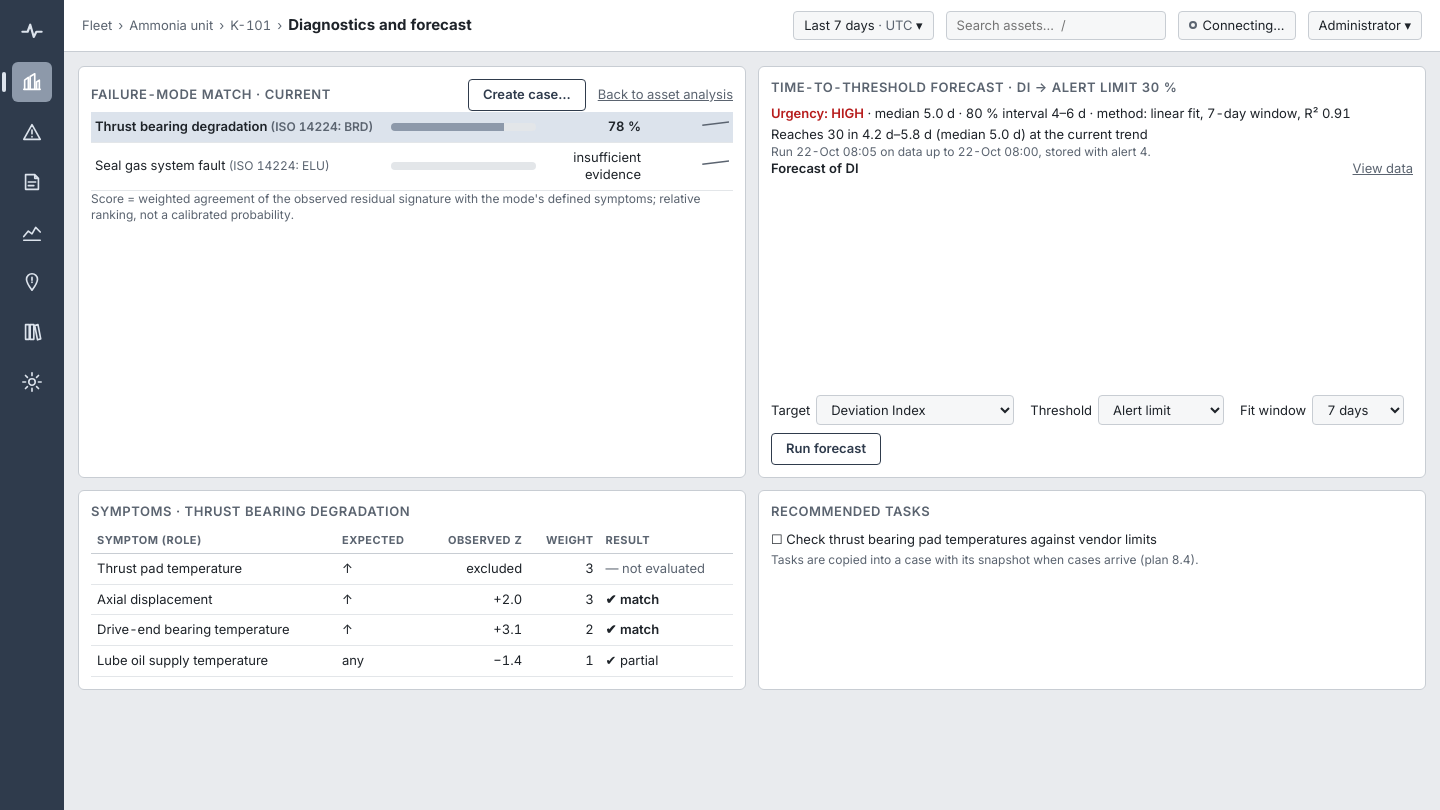
SCR-04 diagnostics › runs a forecast on a sensor with a custom threshold
Select "K101.ZI1015.PV actual" in the dropdown labelled "Target". click: (915, 410)
box: [816,395,1014,425]
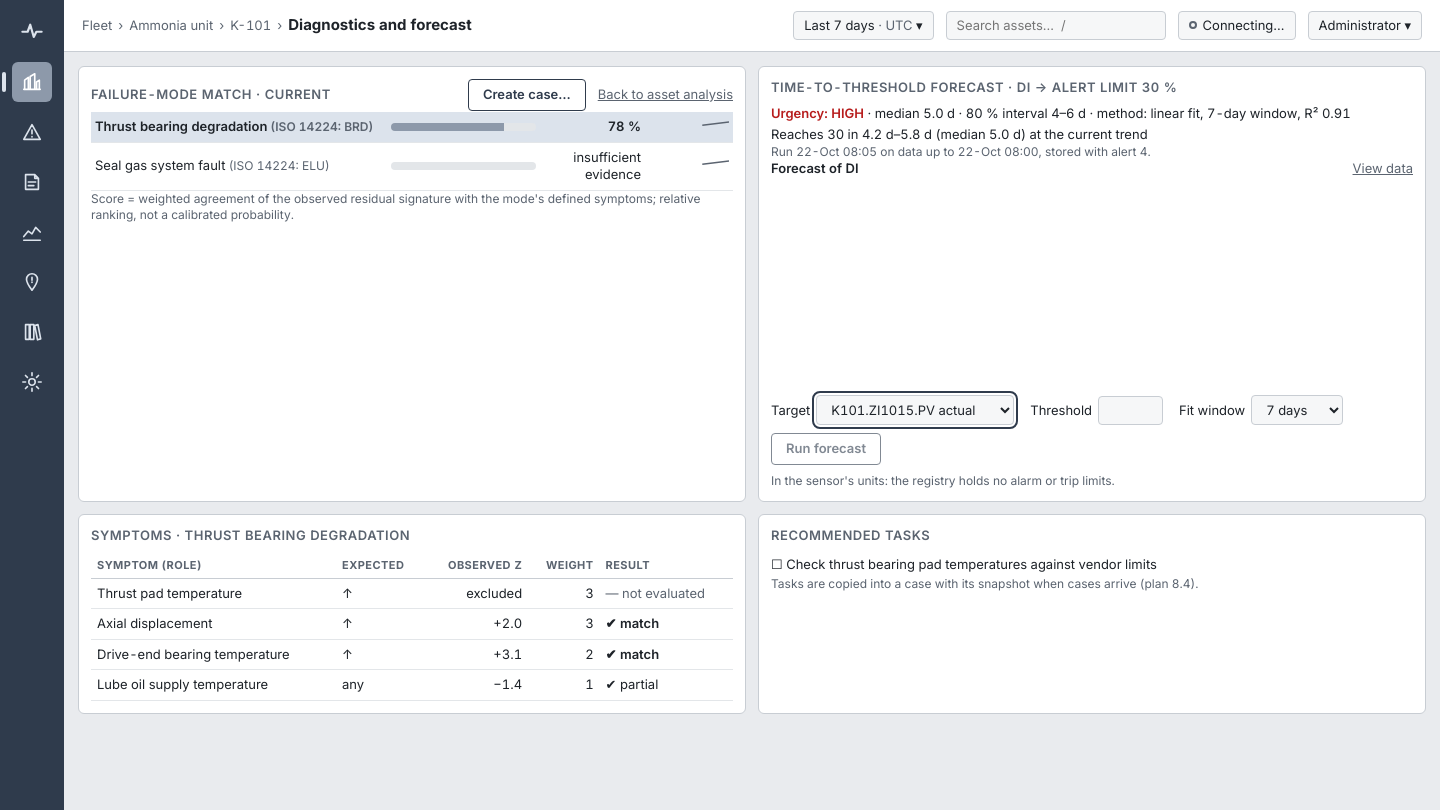
Type "500" into the field labelled "Threshold". click: (1130, 411)
box: [1098,396,1163,425]
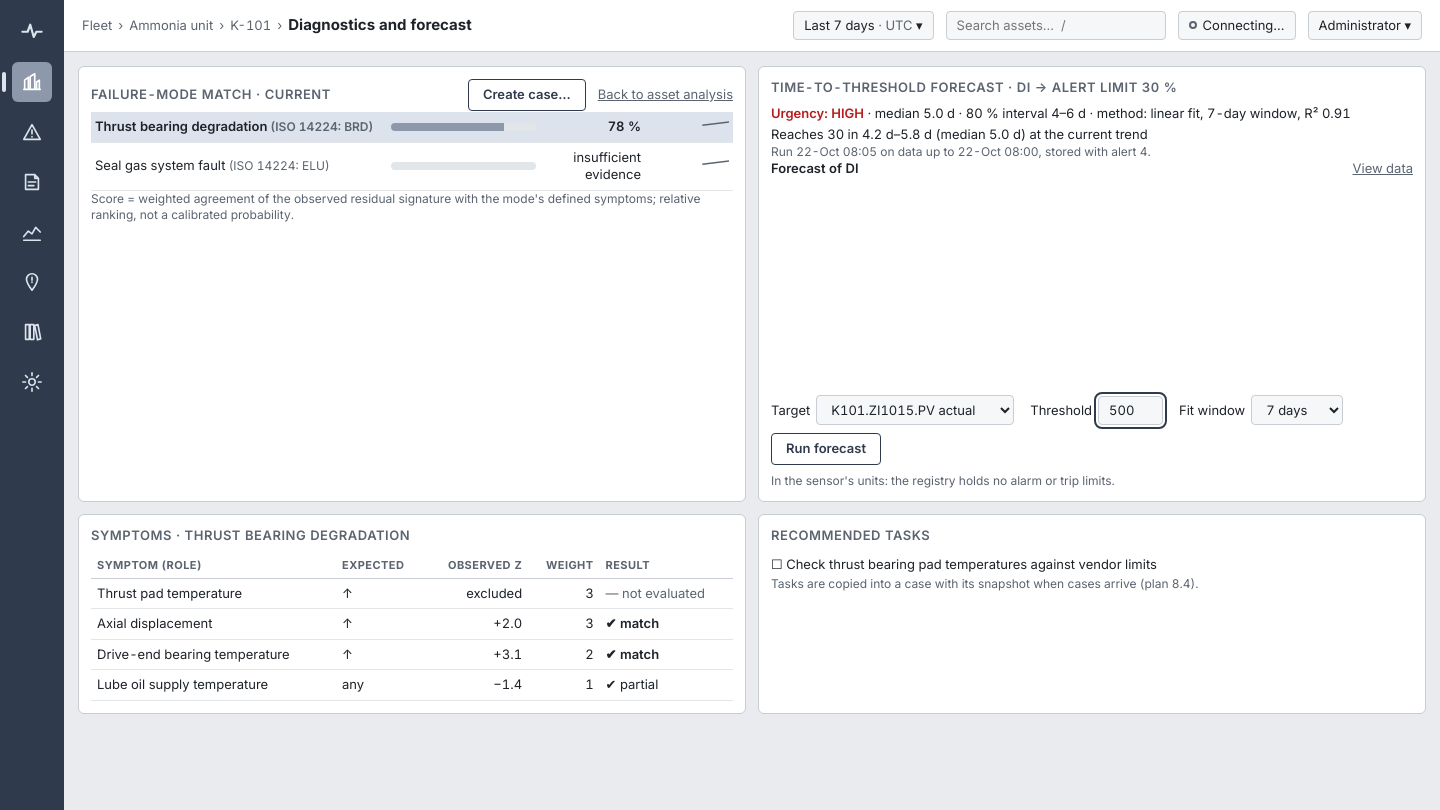
Select "3 days" in the dropdown labelled "Fit window". click: (1297, 410)
box: [1251,395,1343,425]
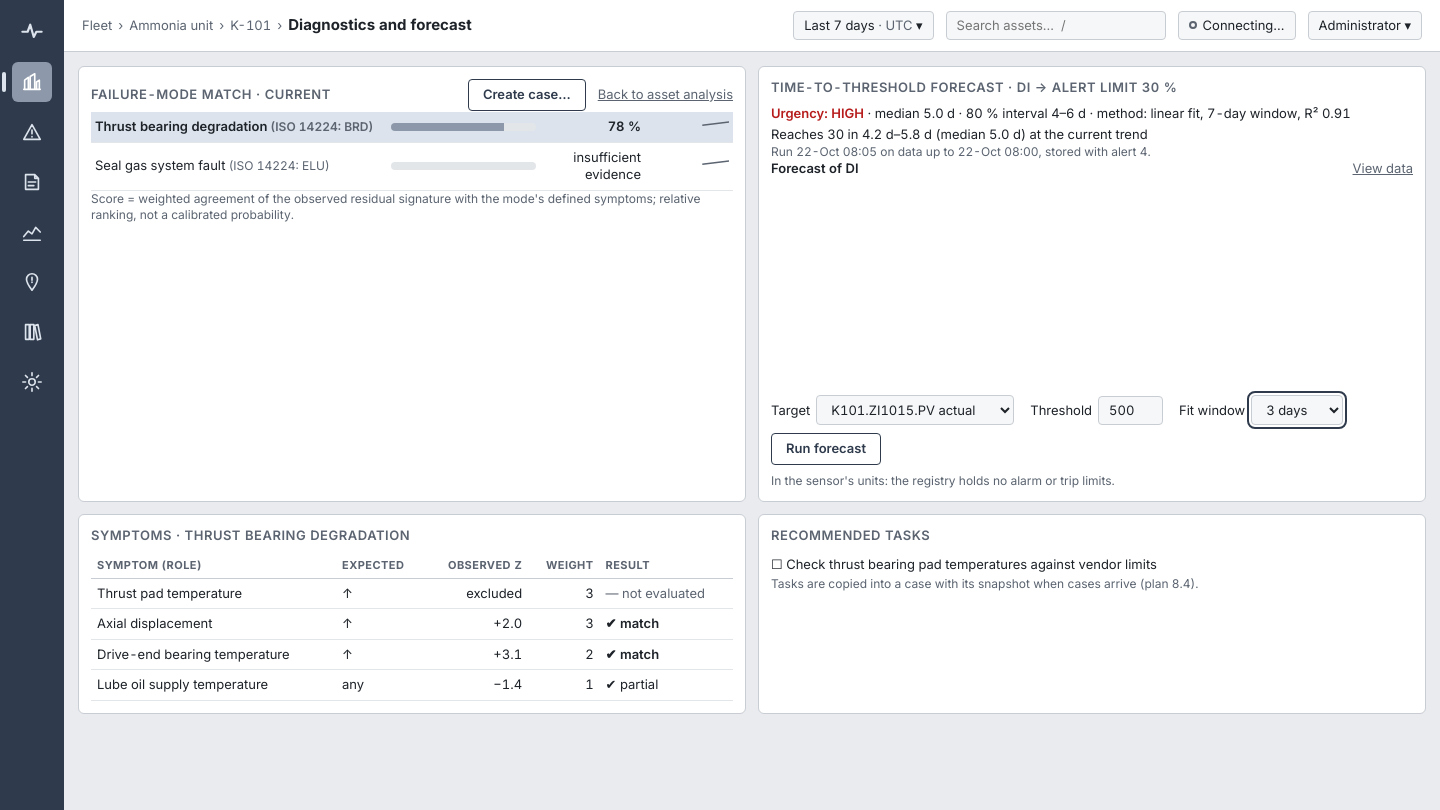
Click the button "Run forecast". click: (826, 449)
box: [771,433,881,465]
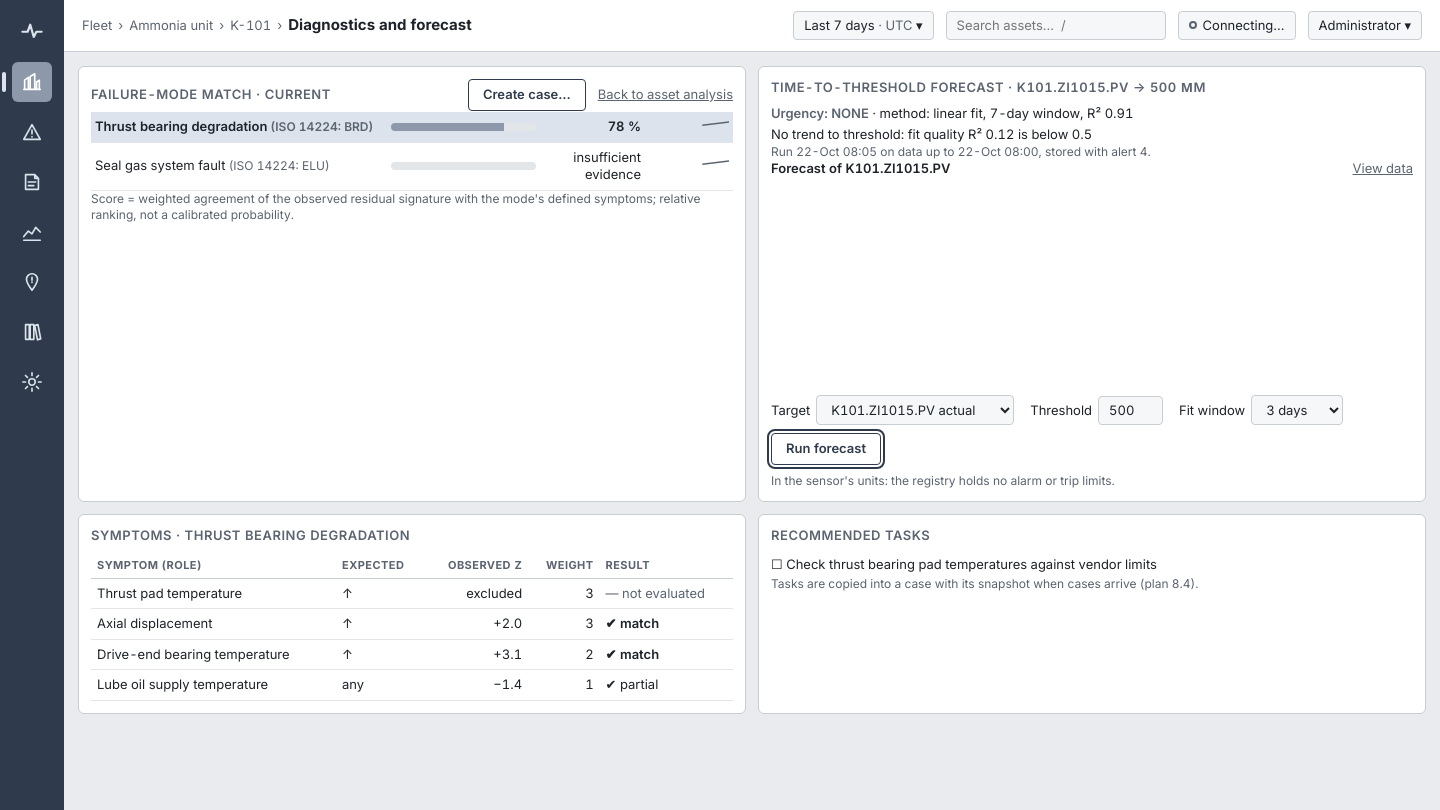
Check: the text "Urgency: NONE" is shown, box [771,104,869,120]
Check: the heading "Time-to-threshold forecast · K101.ZI1015.PV → 500 µm" is shown, box [771,79,1206,95]
